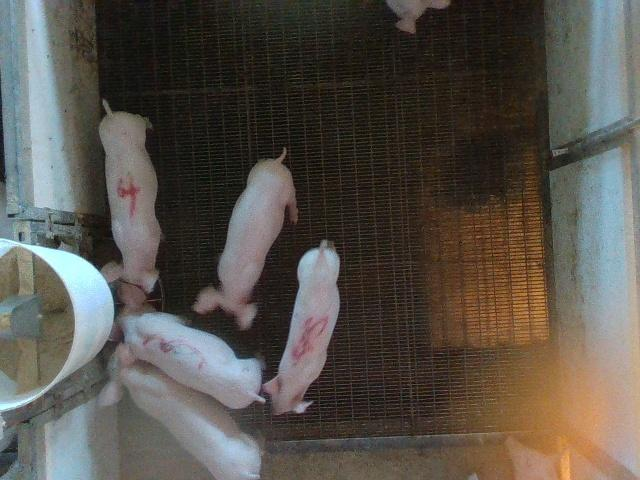pig-3: (110, 279, 264, 408)
pig-4: (99, 100, 161, 292)
pig-5: (262, 240, 340, 414)
